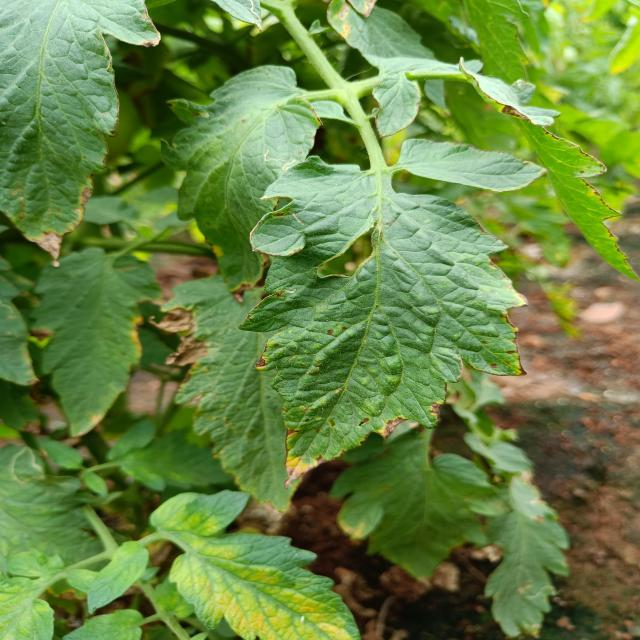Tomato mosaic virus leaf: (232, 182, 534, 494)
